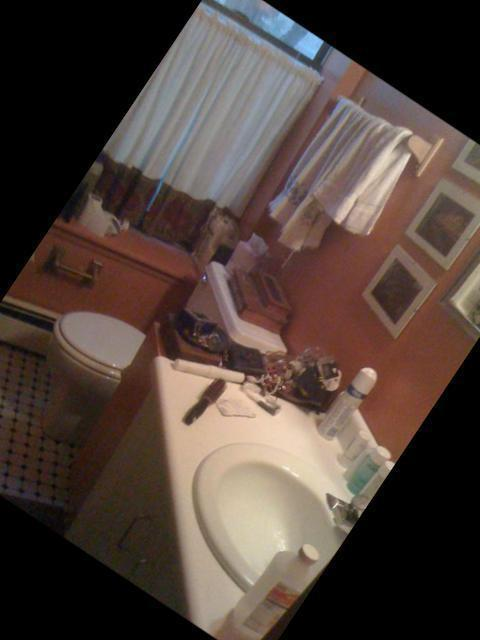Lavamanos: (148, 394, 380, 627)
Sanitario: (0, 207, 297, 519)
